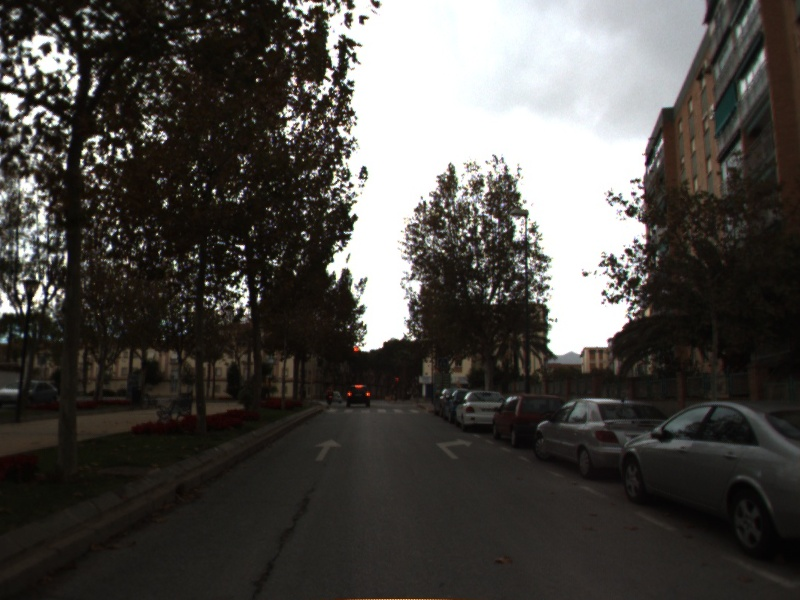RIGHT: (433, 436, 477, 461)
STRAIGHT: (312, 436, 346, 463)
